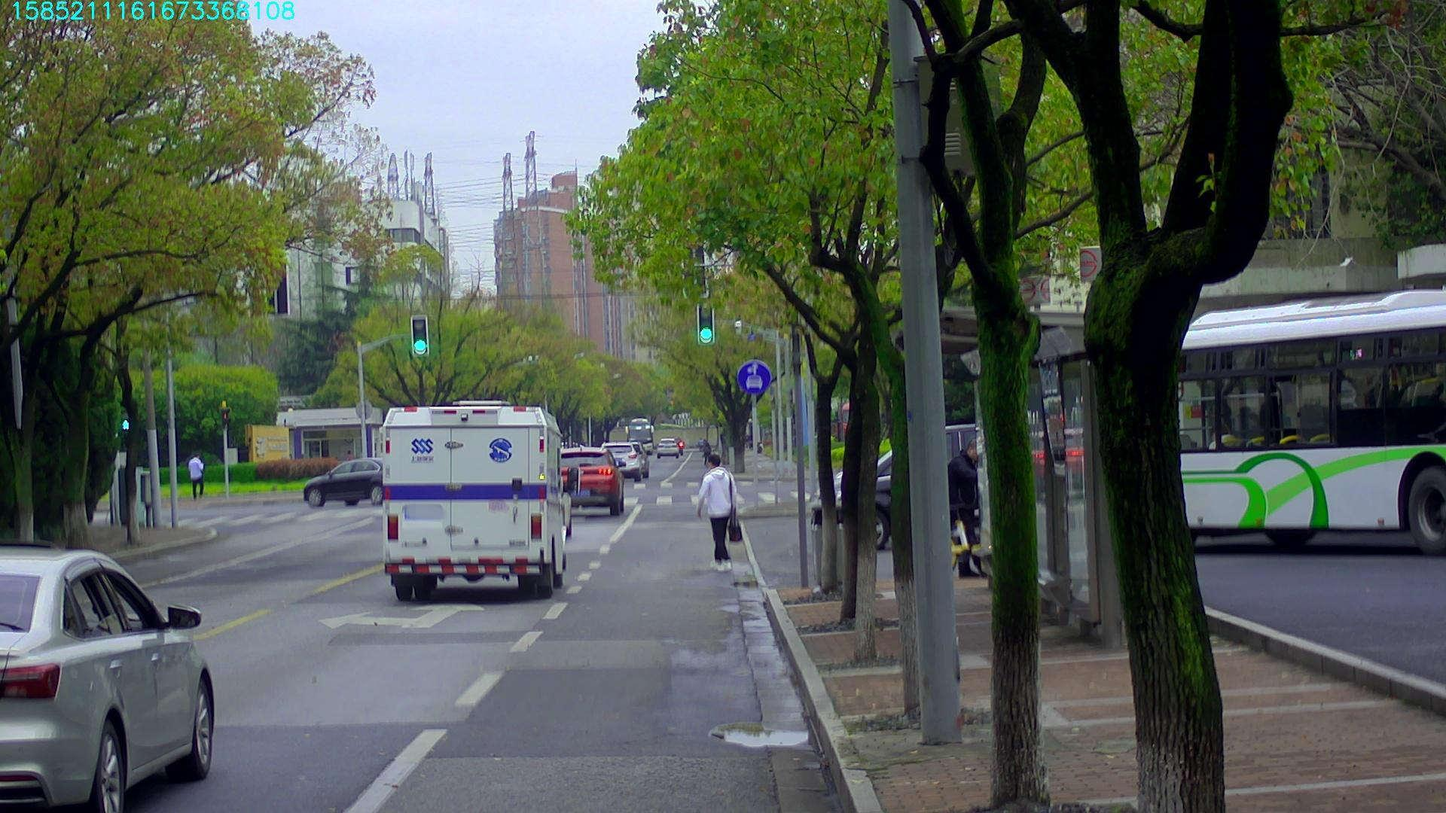green: (410, 316, 427, 354), (697, 304, 712, 343)
